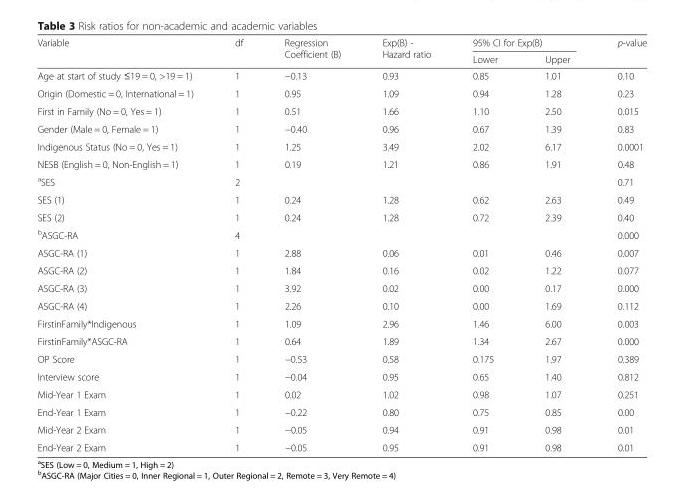table: (36, 36, 646, 452)
table column: (36, 36, 213, 452), (263, 36, 360, 452), (360, 36, 451, 452), (520, 36, 593, 452), (451, 36, 520, 452), (593, 36, 646, 452), (213, 36, 263, 452)
table column header: (36, 36, 646, 66)
table row: (36, 66, 646, 84), (36, 84, 646, 102), (36, 119, 646, 137), (36, 137, 646, 155), (36, 172, 646, 190), (36, 190, 646, 208), (36, 225, 646, 243), (36, 243, 646, 261), (36, 261, 646, 279), (36, 296, 646, 314), (36, 314, 646, 332), (36, 349, 646, 367), (36, 367, 646, 385), (36, 402, 646, 420), (36, 420, 646, 438), (36, 102, 646, 119), (36, 155, 646, 172), (36, 208, 646, 225), (36, 279, 646, 296), (36, 332, 646, 349), (36, 385, 646, 402), (36, 50, 646, 66), (36, 36, 646, 50), (36, 438, 646, 452)
table spanning cell: (36, 36, 213, 66), (263, 36, 360, 66), (360, 36, 451, 66), (451, 36, 593, 50), (593, 36, 646, 66), (213, 36, 263, 66)
